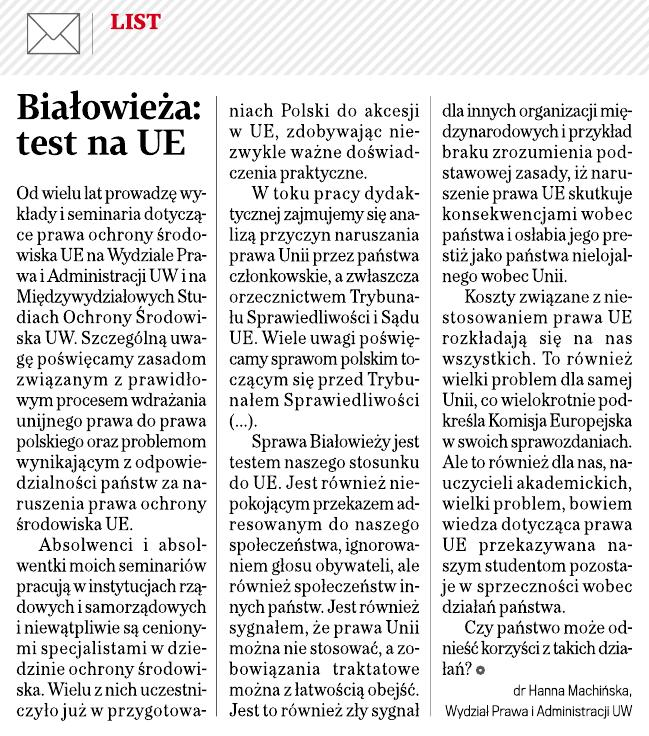body: (224, 98, 427, 728), (438, 93, 641, 681), (8, 176, 214, 724)
lead: (9, 85, 211, 165)
title: (100, 4, 182, 39)
